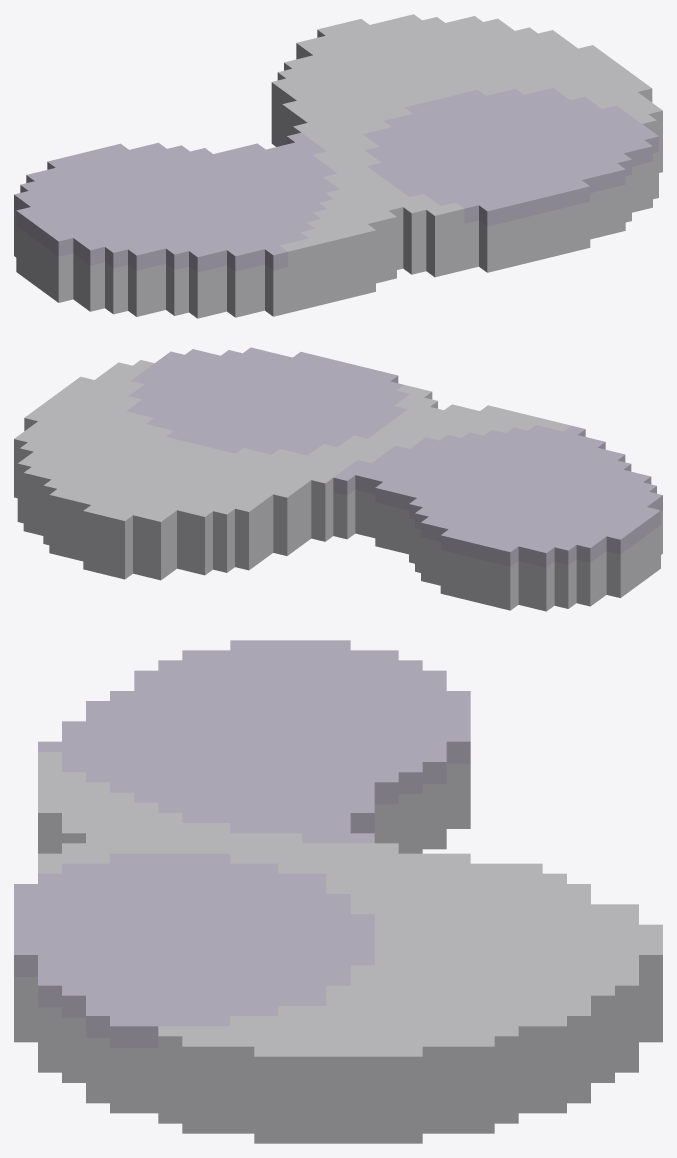
Rendered from ggj2020_stage_mini2.obj.
The picture shows the model from 3 angles, top to bottom: view 1: azimuth 30°, elevation 25°; view 2: azimuth 150°, elevation 25°; view 3: azimuth 270°, elevation 25°; orthographic projection. The views are drawn at different scales.
Bounding box in the file's own units: 4.1 × 0.4 × 2.7.
1 material, 1 textured.
